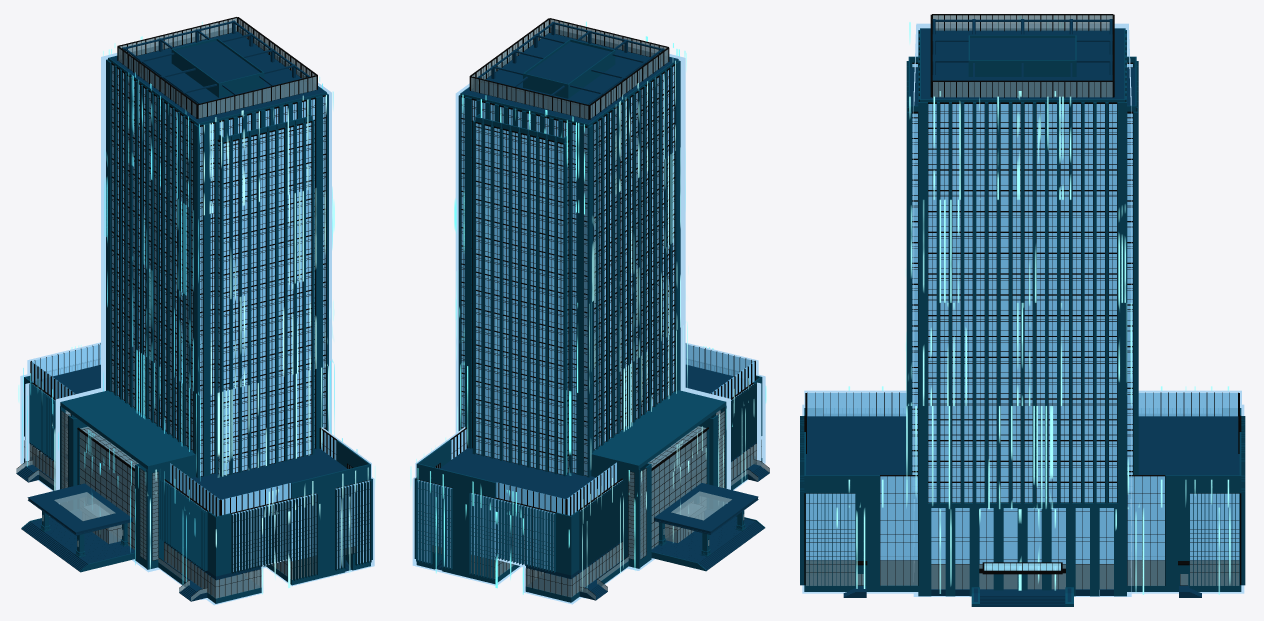
3 views of the same model, side by side, from view 1: azimuth 30°, elevation 25°; view 2: azimuth 150°, elevation 25°; view 3: azimuth 270°, elevation 25° (orthographic). The views are drawn at different scales.
Parts seen in each view (by area): view 1: 高楼1.001, 表面动画_002; view 2: 高楼1.001, 表面动画_002; view 3: 高楼1.001, 表面动画_002.
Boxes of the visible parts, x1,y1,x2,y2 form: 高楼1.001: (16,17,374,605); 表面动画_002: (18,21,375,594); 高楼1.001: (412,18,769,604); 表面动画_002: (410,21,766,594); 高楼1.001: (800,14,1245,606); 表面动画_002: (836,17,1230,594).
Bounding box in the file's own units: 43.6 × 74.4 × 59.25.
Materials: 7 (1 with a texture image).
